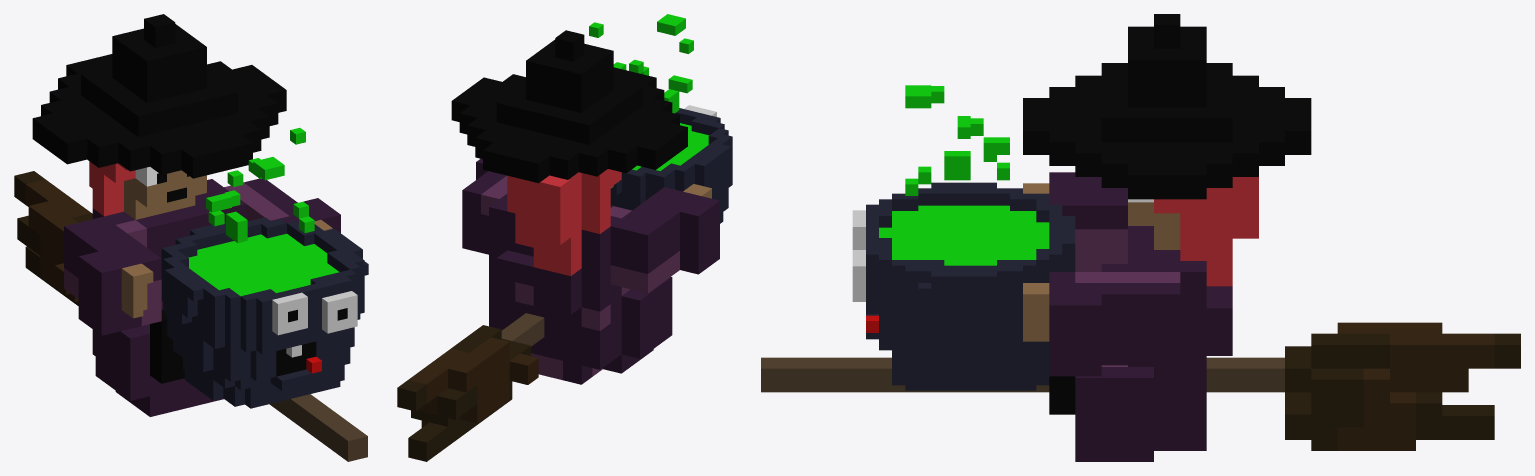
File: witch.glb
3 views of the same model, side by side, from view 1: azimuth 30°, elevation 25°; view 2: azimuth 150°, elevation 25°; view 3: azimuth 270°, elevation 25° (orthographic). The views are drawn at different scales.
Visible parts, largest first — view 1: witch; view 2: witch; view 3: witch.
Part boxes in pixels (x1,y1,x2,y2): witch: (14,14,368,461); witch: (397,14,732,461); witch: (761,14,1520,461).
Bounding box in the file's own units: 2.4 × 3.4 × 5.8.
Materials: 1 (1 with a texture image).
